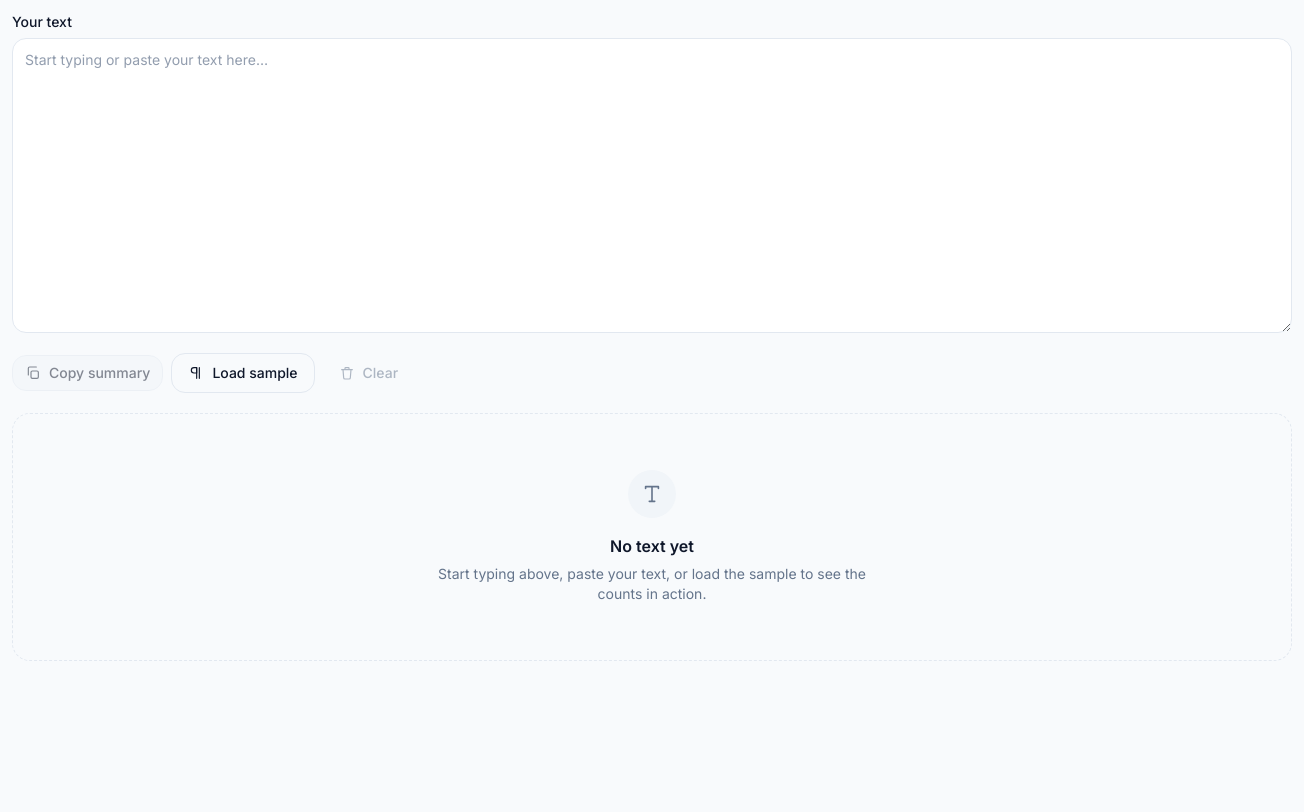
WordCounterTool › clears the input and returns to the empty state
Type "some text" into the text box labelled "Your text".
click(652, 186); type("some text")  # box [12,38,1292,333]
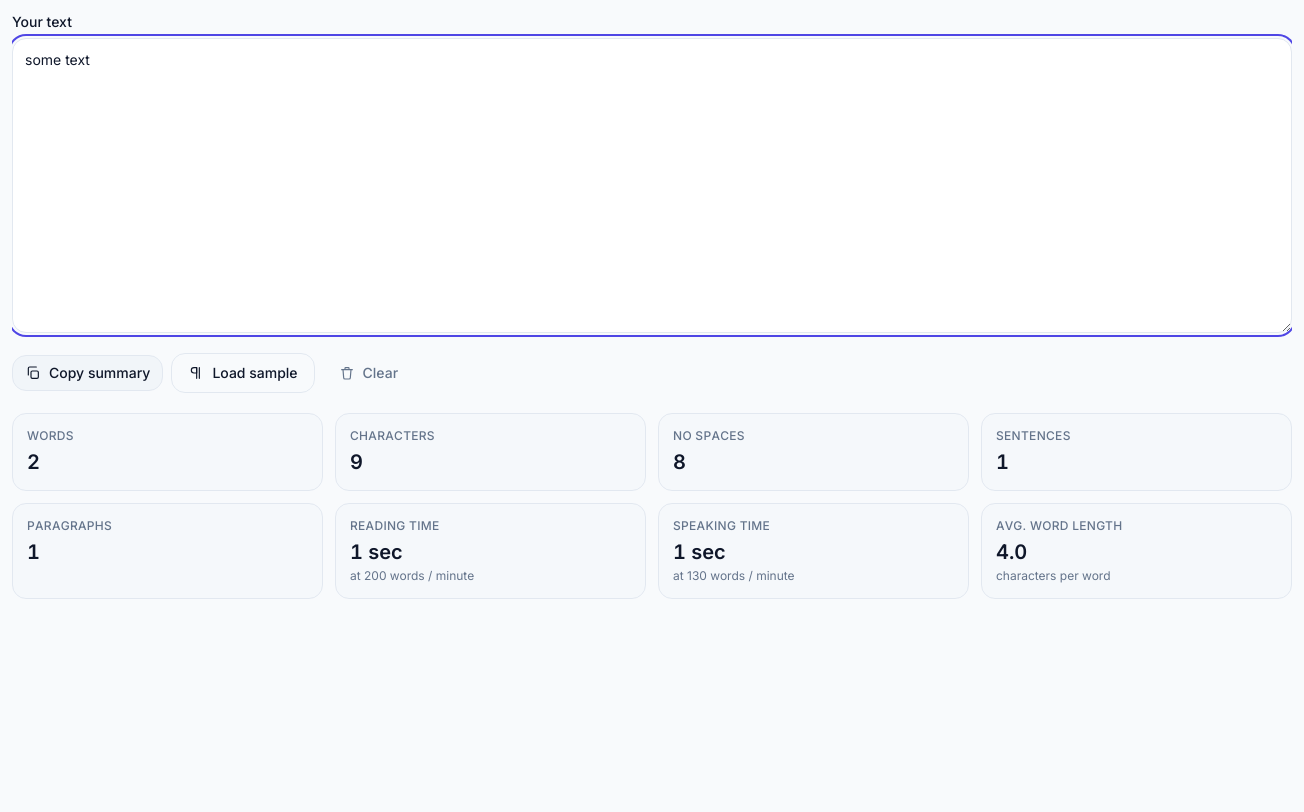
Check: the text "Words" is shown, box [27,428,74,443]
Click the button "Clear".
click(368, 373)  # box [323,353,414,393]
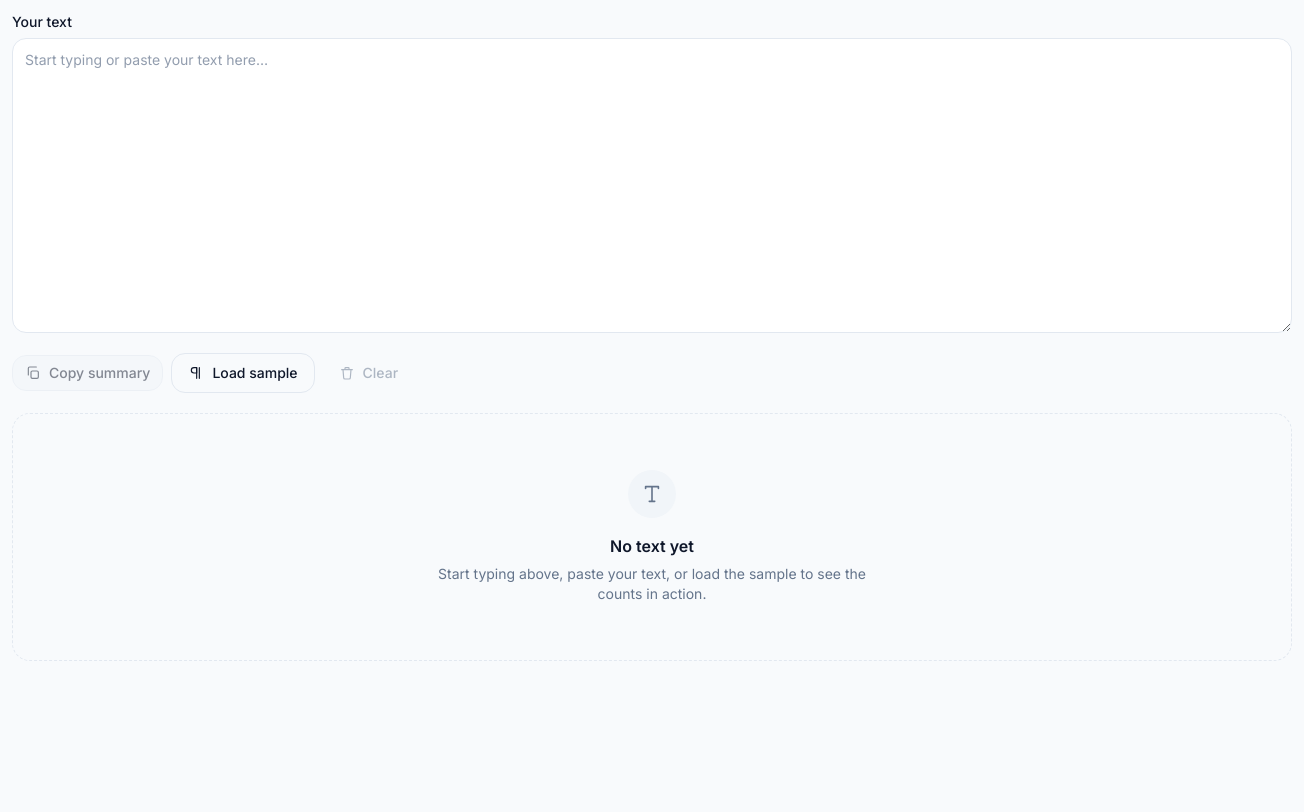
Check: the heading "No text yet" is shown, box [610,534,694,558]
